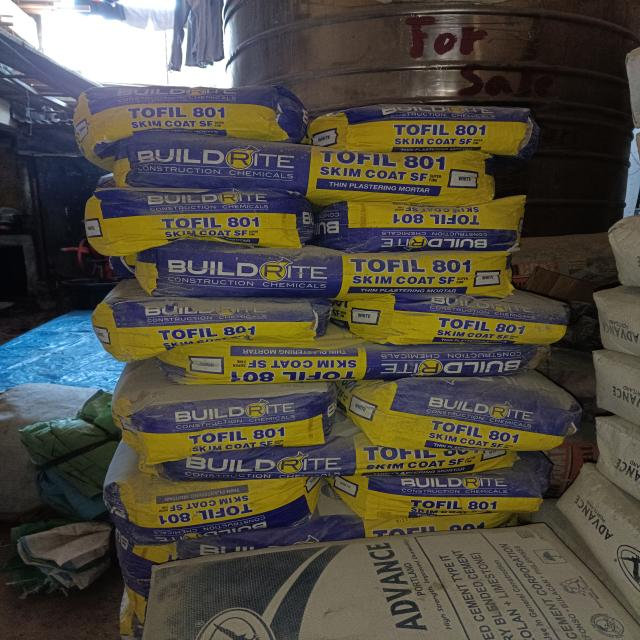Skim coat: (120, 137, 497, 203), (140, 244, 502, 296), (105, 469, 304, 546), (191, 341, 530, 380), (90, 185, 290, 248), (134, 384, 322, 450), (363, 379, 551, 445), (316, 98, 520, 150), (86, 86, 289, 138), (171, 450, 515, 479), (102, 295, 297, 346), (359, 295, 553, 346), (333, 201, 510, 248), (378, 470, 551, 512), (310, 509, 483, 550)
